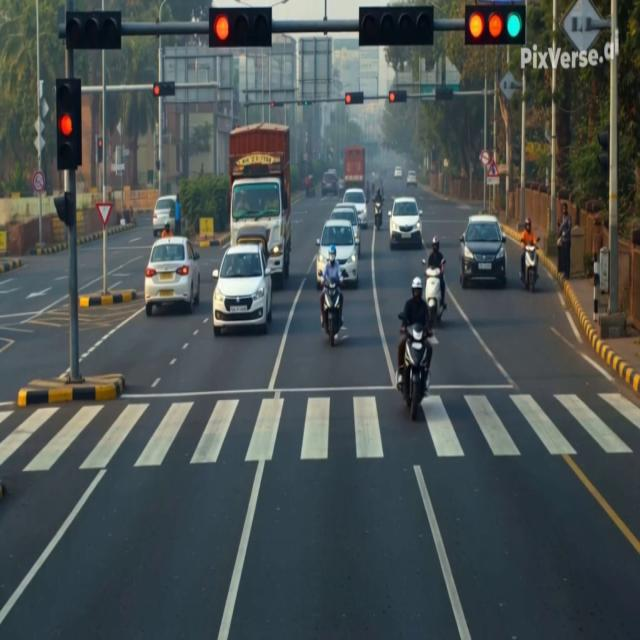car: (212, 243, 272, 335), (144, 237, 200, 316), (460, 215, 506, 287), (316, 220, 359, 289), (388, 197, 422, 249), (330, 204, 359, 239), (152, 195, 176, 237), (342, 188, 367, 228), (322, 172, 338, 196), (407, 171, 417, 186), (338, 178, 344, 194), (394, 167, 402, 178)
scooty: (397, 325, 429, 420), (422, 259, 444, 328), (323, 280, 339, 346), (522, 245, 538, 293), (374, 202, 383, 231)
traffic signal: (359, 6, 433, 47), (209, 8, 272, 47), (465, 5, 525, 45), (56, 79, 81, 170), (65, 11, 121, 49), (54, 192, 75, 226), (597, 130, 609, 171), (153, 82, 175, 97), (434, 87, 453, 101), (389, 90, 407, 103), (345, 92, 363, 104), (96, 136, 102, 163), (270, 102, 283, 108), (298, 100, 310, 105)
truck: (229, 123, 291, 287), (344, 147, 365, 189)
